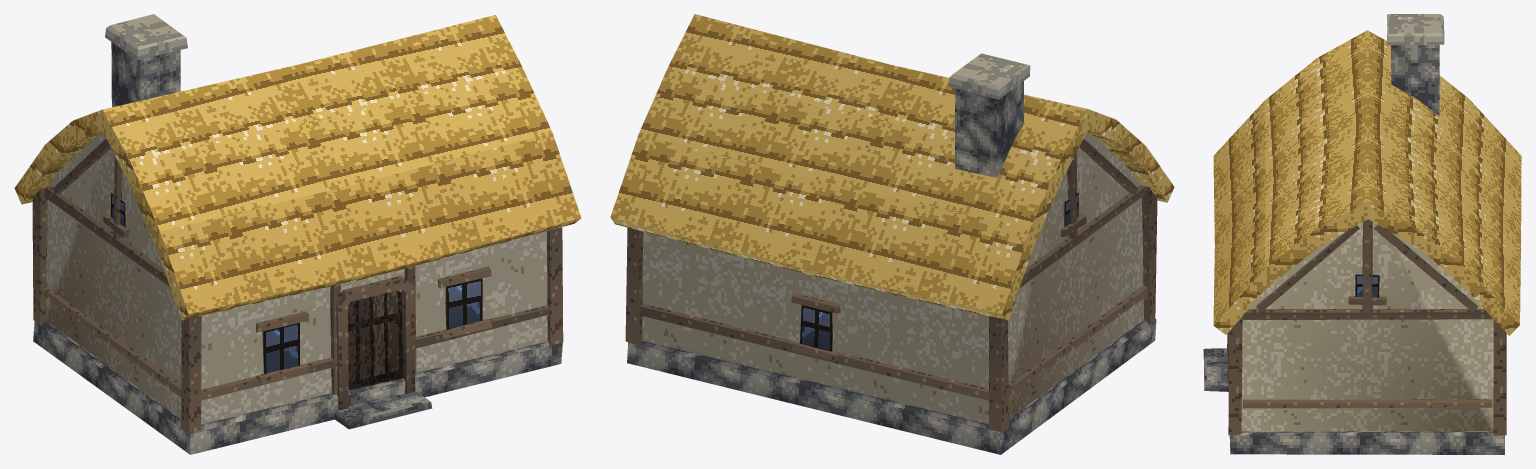
The model's file is vlg.cottage.glb.
3 renders of one model, left to right at view 1: azimuth 30°, elevation 25°; view 2: azimuth 150°, elevation 25°; view 3: azimuth 270°, elevation 25°, orthographic. The views are drawn at different scales.
Visible parts, largest first — view 1: kit_roof, kit_walls, kit_stonework, kit_fittings, kit_frame; view 2: kit_roof, kit_walls, kit_stonework, kit_frame, kit_fittings; view 3: kit_roof, kit_walls, kit_frame, kit_stonework, kit_fittings.
Boxes of the visible parts, <box> form: kit_roof: <box>14,15,581,319</box>; kit_walls: <box>46,133,547,424</box>; kit_stonework: <box>33,14,562,454</box>; kit_fittings: <box>103,192,492,429</box>; kit_frame: <box>32,138,563,432</box>; kit_roof: <box>610,14,1174,320</box>; kit_walls: <box>642,133,1143,423</box>; kit_stonework: <box>627,53,1156,454</box>; kit_frame: <box>625,138,1157,432</box>; kit_fittings: <box>791,192,1086,360</box>; kit_roof: <box>1213,30,1521,335</box>; kit_walls: <box>1241,222,1493,431</box>; kit_frame: <box>1228,219,1506,435</box>; kit_stonework: <box>1229,14,1504,454</box>; kit_fittings: <box>1203,274,1386,391</box>.
Bounding box in the file's own units: 7.57 × 6.13 × 5.95.
8 materials, 8 textured.
